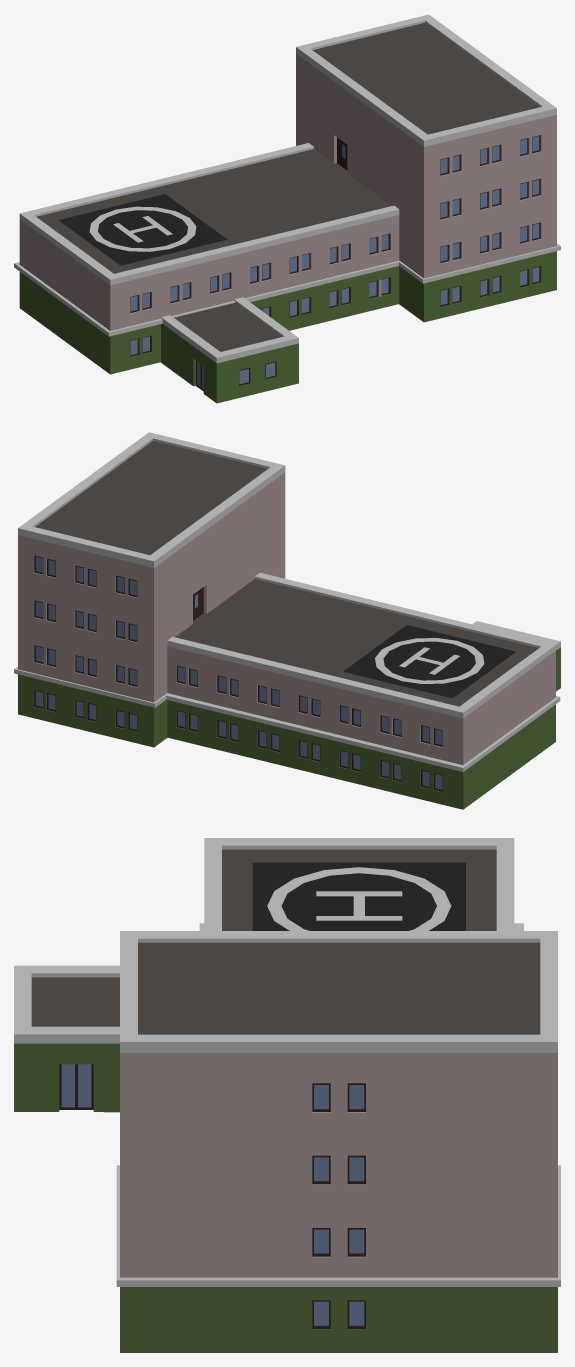
Rendered from Hospital_01.fbx.
The picture shows the model from 3 angles, top to bottom: view 1: azimuth 30°, elevation 25°; view 2: azimuth 150°, elevation 25°; view 3: azimuth 270°, elevation 25°; orthographic projection. The views are drawn at different scales.
Visible parts, largest first — view 1: Hospital_01; view 2: Hospital_01; view 3: Hospital_01.
Part boxes in pixels (bbox=[...]): Hospital_01: bbox=[14, 14, 560, 403]; Hospital_01: bbox=[14, 432, 560, 809]; Hospital_01: bbox=[14, 838, 560, 1352].
Bounding box in the file's own units: 40.48 × 16.55 × 26.22.
